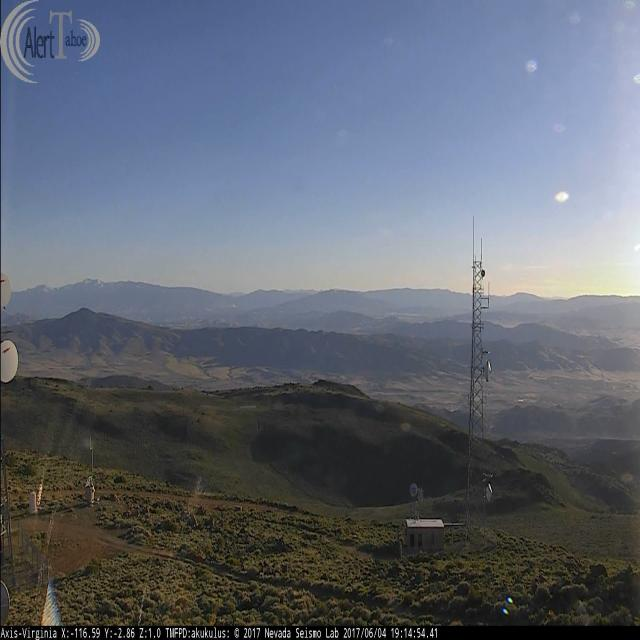smoke: (221, 298, 238, 308)
